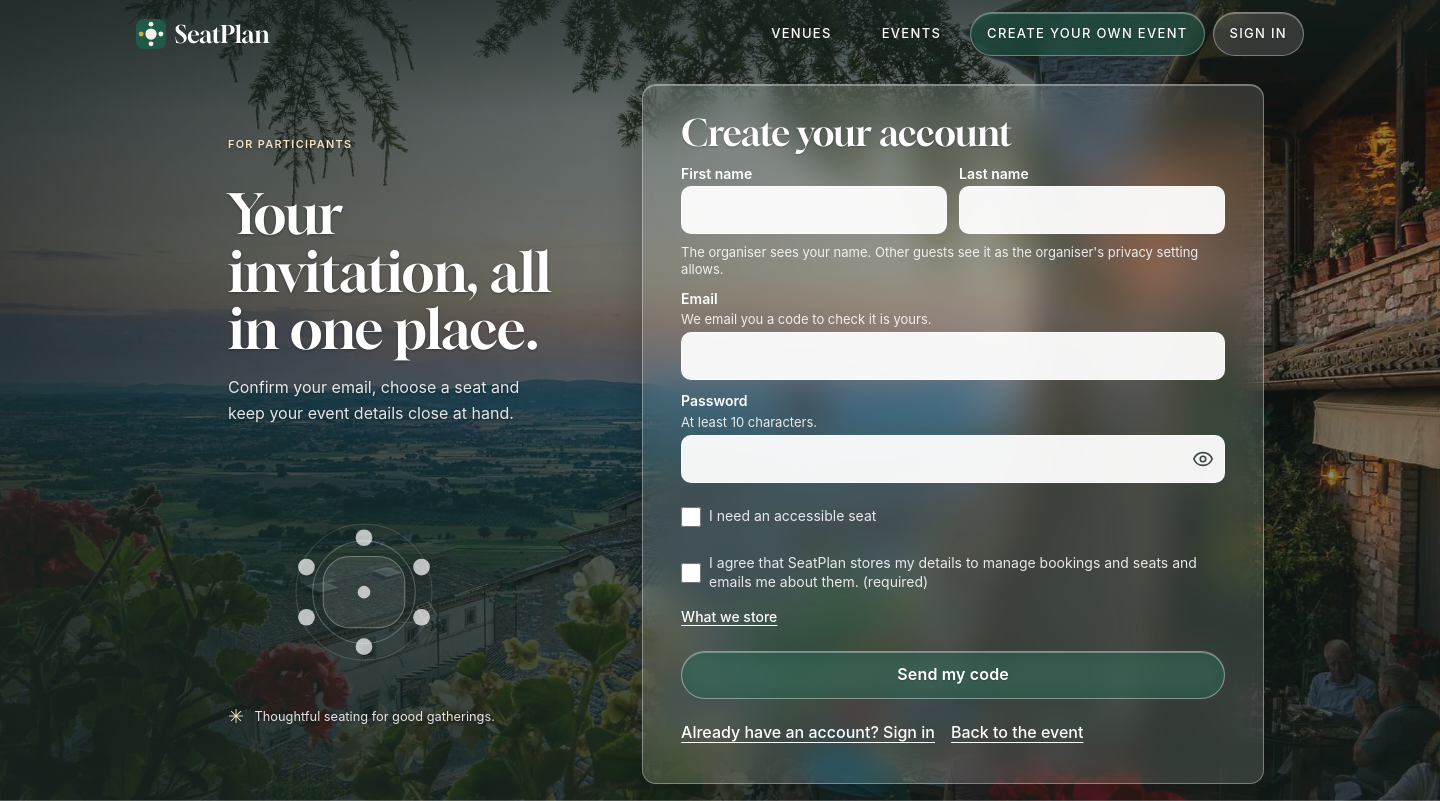
Test case: RegisterPage › goes back to the form with the password emptied for a different email
Type "Nina" into the field labelled "First name". click: (814, 210)
box: left=681, top=186, right=947, bottom=234
Type "Lopes" into the field labelled "Last name". click: (1092, 210)
box: left=959, top=186, right=1225, bottom=234
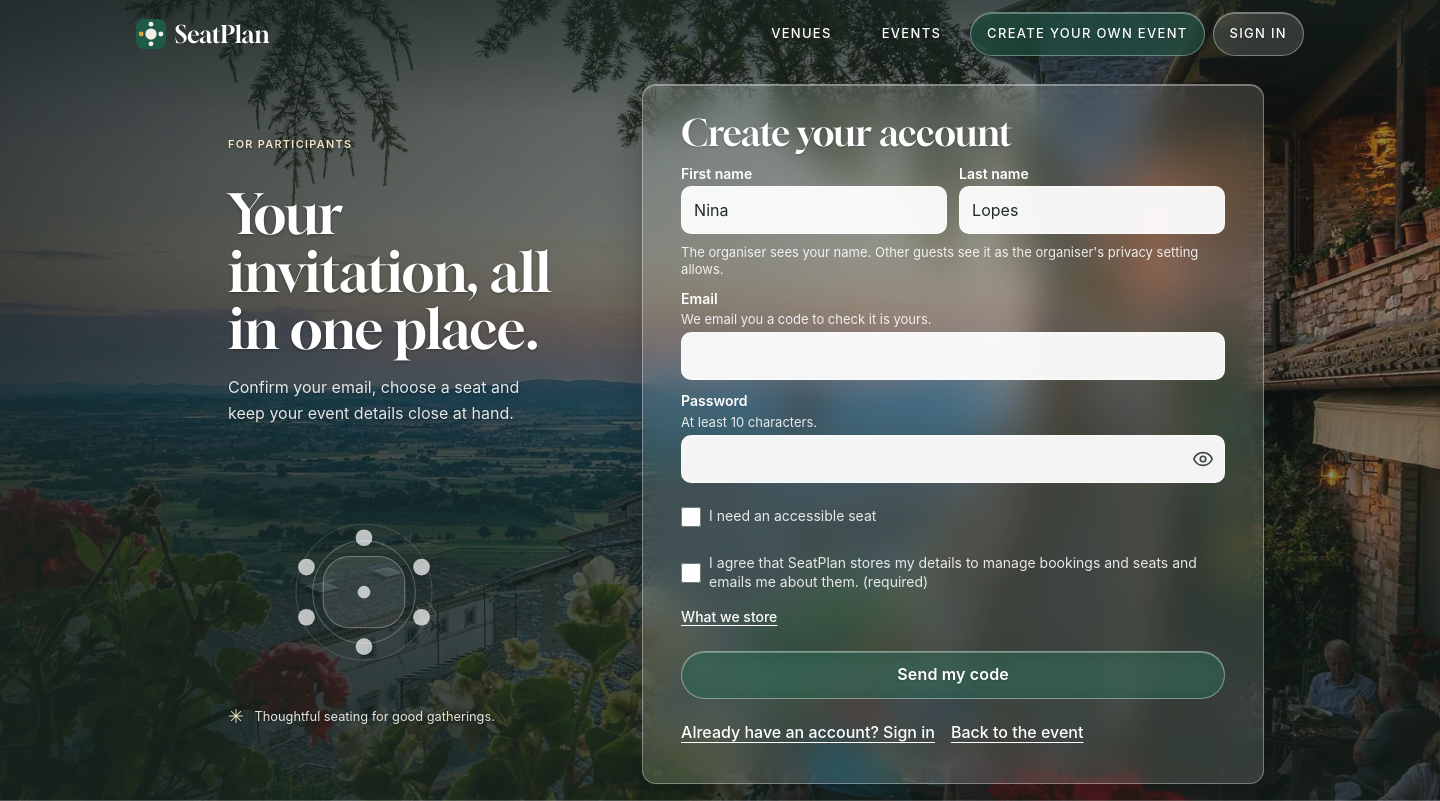
Type "nina@example.com" into the field labelled "Email". click: (953, 356)
box: left=681, top=332, right=1225, bottom=380
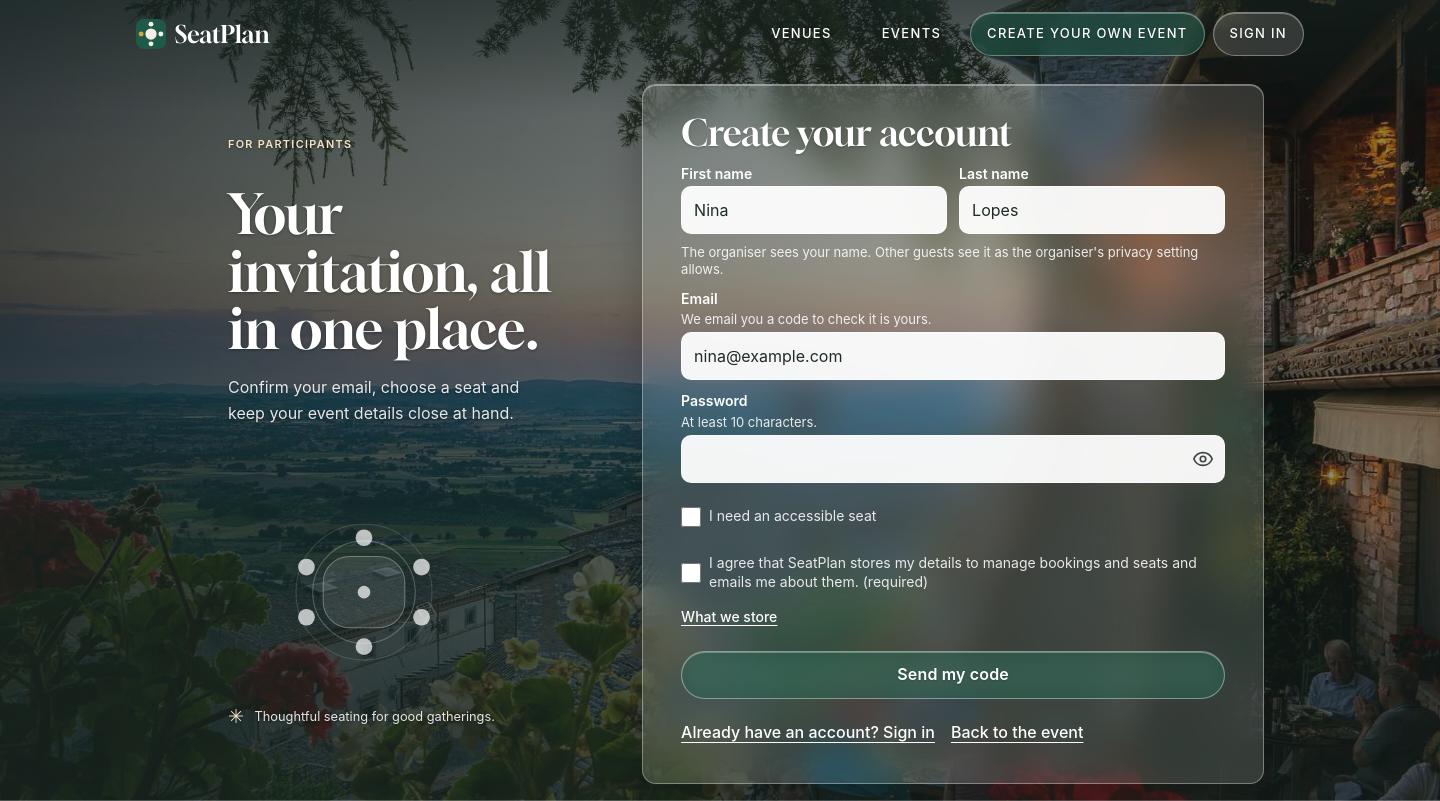
Type "a long password" into the password field labelled "Password". click: (953, 459)
box: left=681, top=435, right=1225, bottom=483
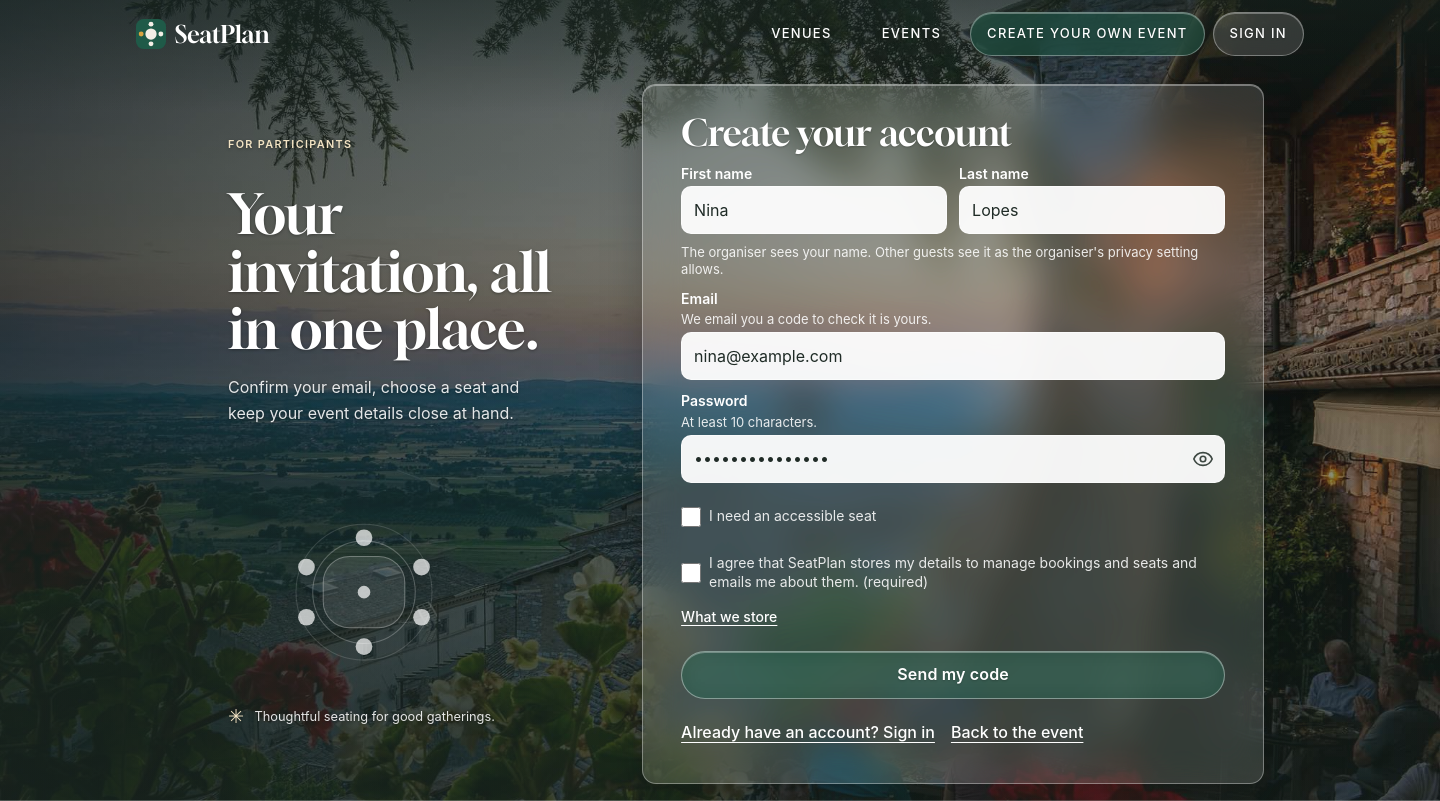
Click the checkbox labelled "I agree that SeatPlan stores my details". click: (691, 573)
box: left=681, top=563, right=701, bottom=583
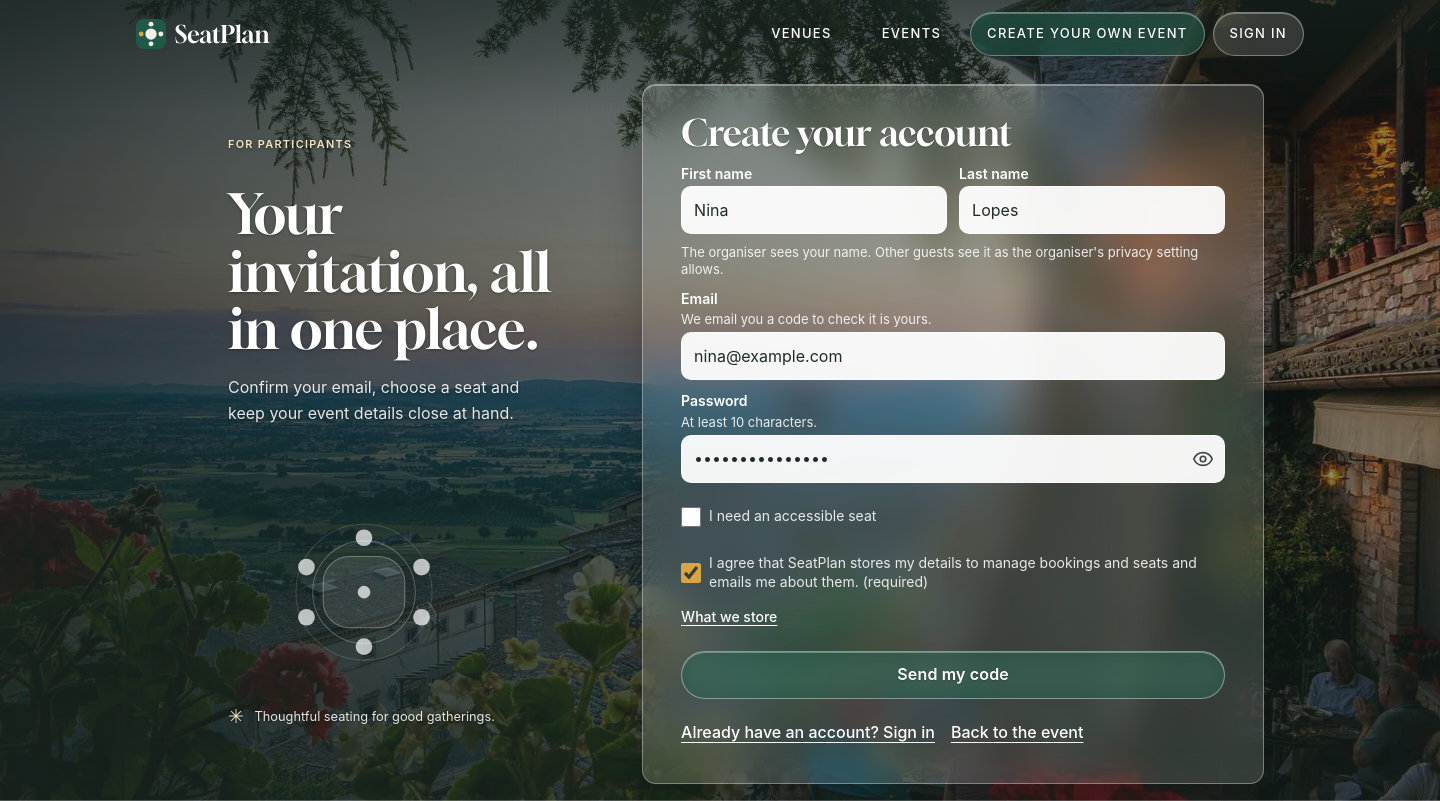
Click the button "Send my code". click: (953, 675)
box: left=681, top=651, right=1225, bottom=699
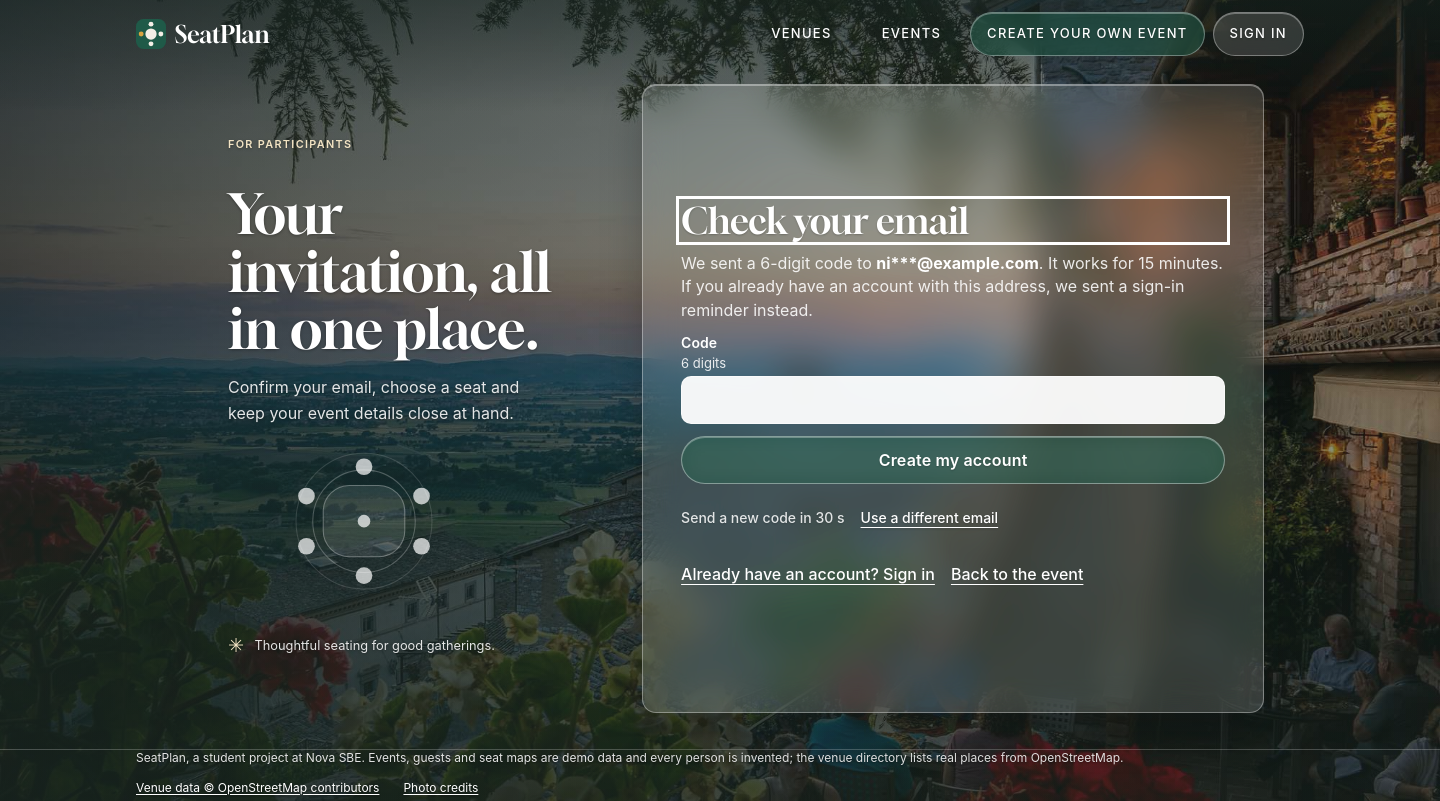
Check: the heading "Check your email" is shown, box left=681, top=198, right=968, bottom=242
Click the button "Use a different email". click: (929, 518)
box: left=860, top=496, right=998, bottom=540
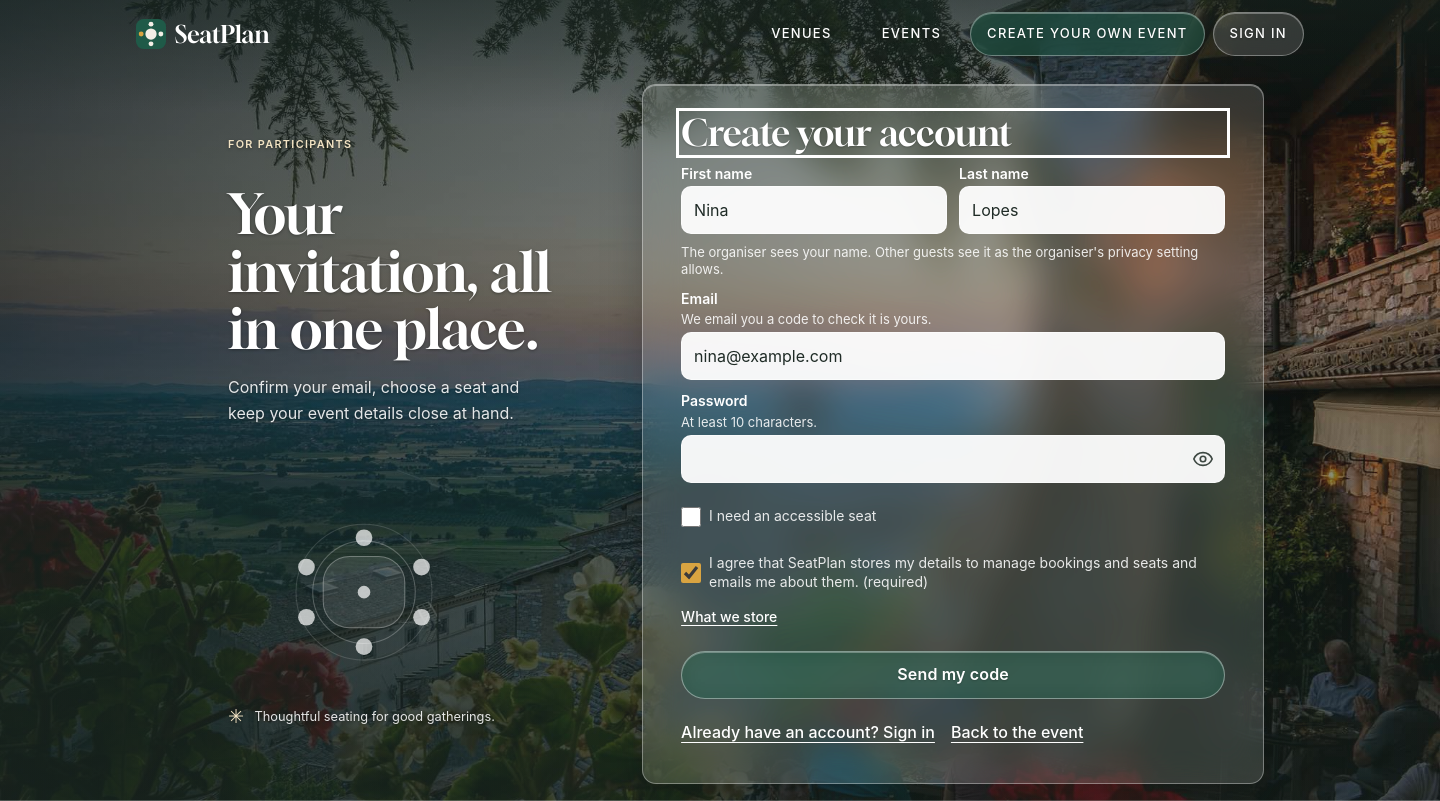
Check: the password field labelled "Password" is empty, box left=681, top=435, right=1225, bottom=483
Check: the field labelled "Email" holds "nina@example.com", box left=681, top=332, right=1225, bottom=380
